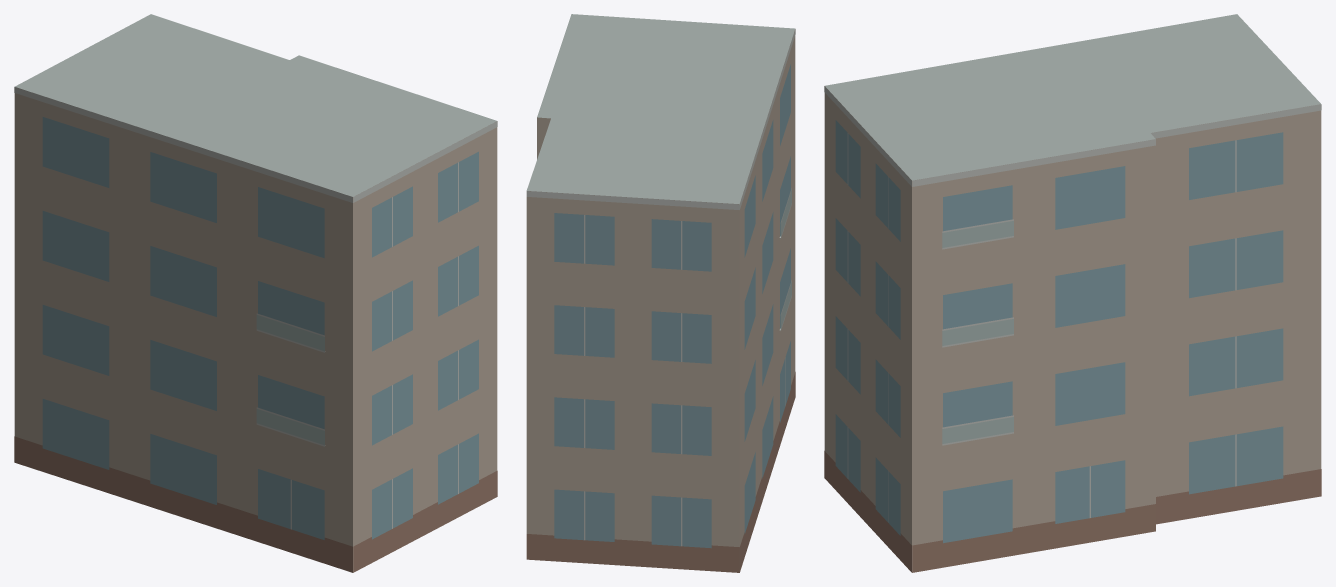
The model's file is survey-upis-32894564.glb.
3 views of the same model, side by side, from view 1: azimuth 30°, elevation 25°; view 2: azimuth 150°, elevation 25°; view 3: azimuth 270°, elevation 25° (orthographic). The views are drawn at different scales.
Visible parts, largest first — view 1: survey-upis-32894564.tmp; view 2: survey-upis-32894564.tmp; view 3: survey-upis-32894564.tmp.
Boxes of the visible parts, x1=… form: survey-upis-32894564.tmp: x1=14, y1=14, x2=497, y2=572; survey-upis-32894564.tmp: x1=526, y1=14, x2=795, y2=572; survey-upis-32894564.tmp: x1=824, y1=14, x2=1321, y2=572.
Bounding box in the file's own units: 13.65 × 14.97 × 17.2.
